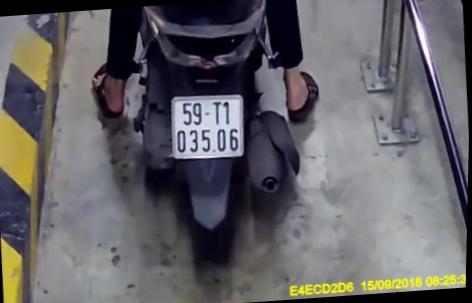LP: (166, 89, 248, 162)
